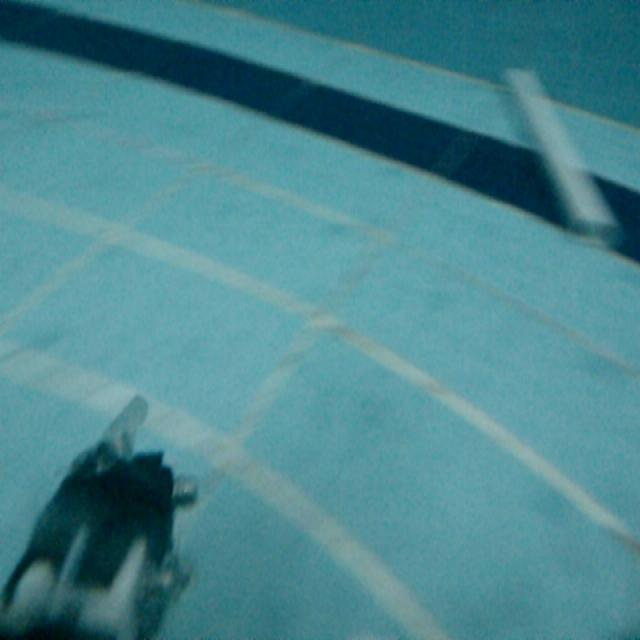Cube: (501, 70, 619, 250)
